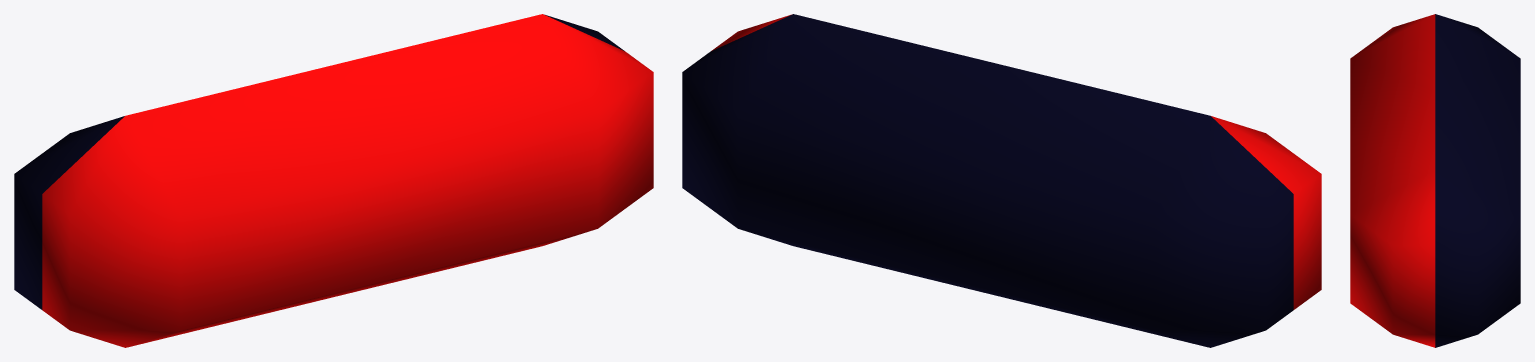
The model's file is warningLamp.fbx.
The picture shows the model from 3 angles, left to right: view 1: azimuth 30°, elevation 25°; view 2: azimuth 150°, elevation 25°; view 3: azimuth 270°, elevation 25°; orthographic projection. The views are drawn at different scales.
Parts seen in each view (by area): view 1: front, Sphere001; view 2: Sphere001, front; view 3: Sphere001, front.
Boxes of the visible parts, x1,y1,x2,y2 form: front: [42, 14, 653, 347]; Sphere001: [14, 14, 624, 309]; Sphere001: [682, 14, 1293, 347]; front: [711, 14, 1321, 309]; Sphere001: [1435, 14, 1520, 347]; front: [1350, 14, 1435, 347].
Bounding box in the file's own units: 8.39 × 3.19 × 2.76.
